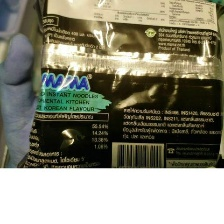snack: (12, 0, 224, 167)
